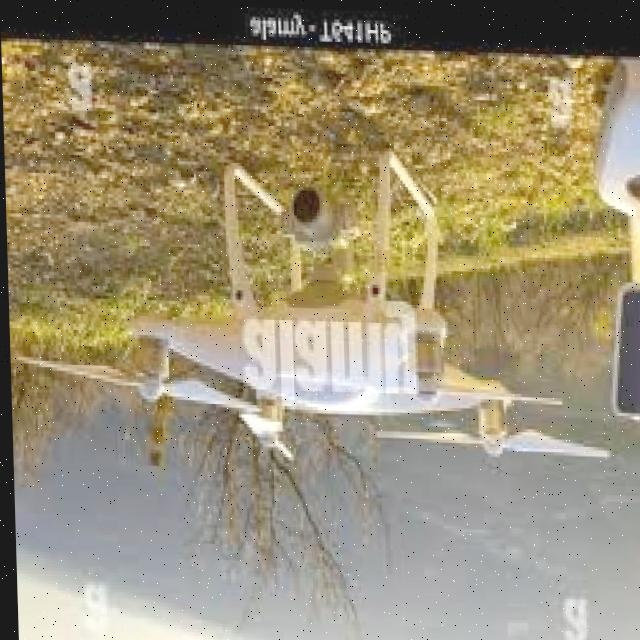drone: (21, 140, 614, 491)
